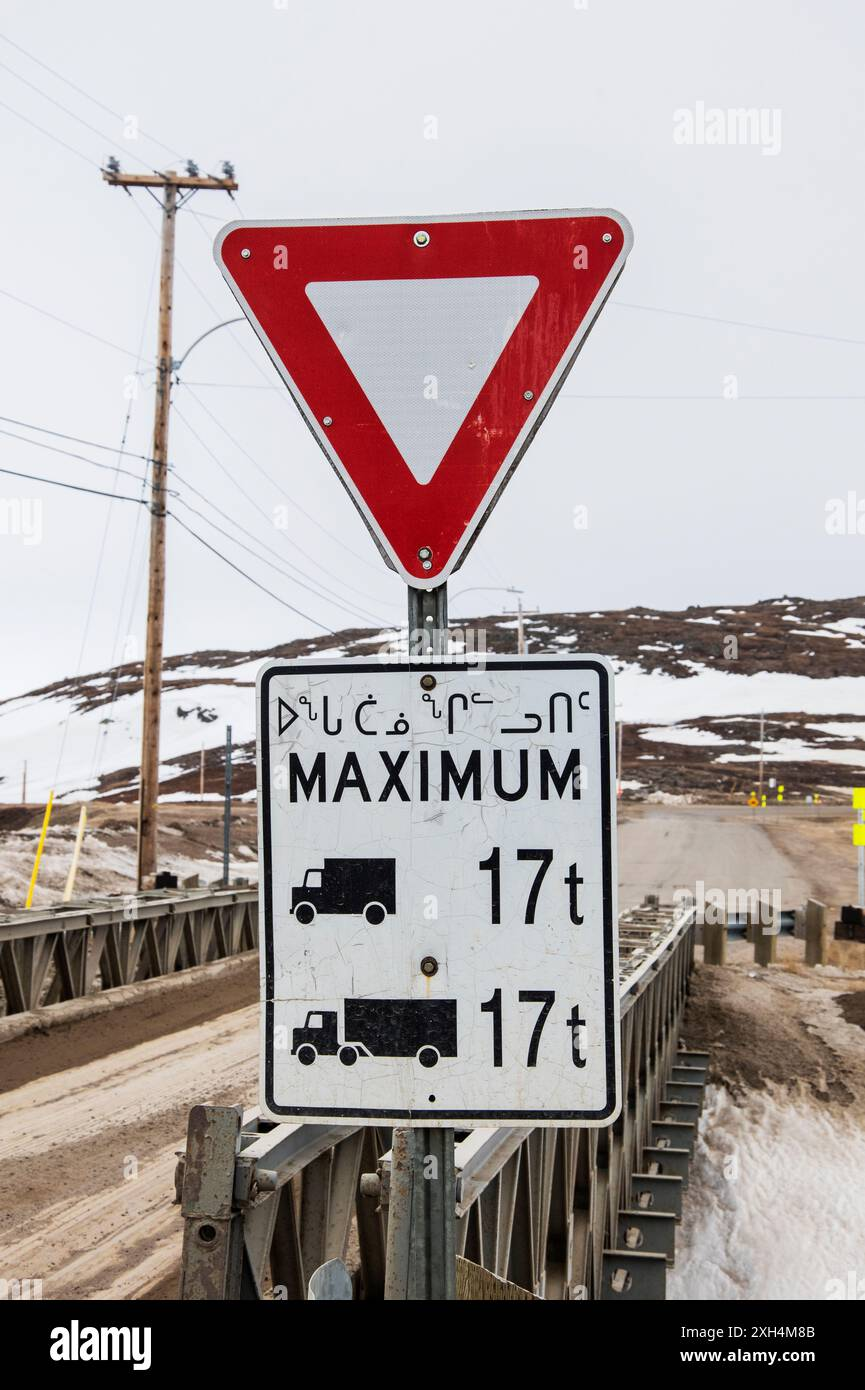sign_yield: (206, 203, 641, 593)
